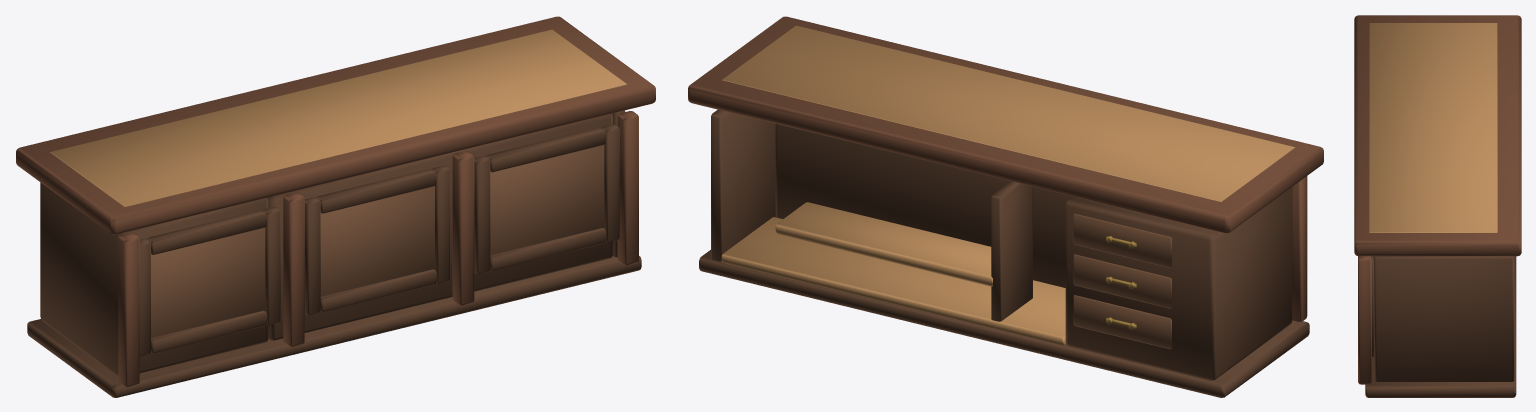
File: asset_061_front_desk_counter_shell.glb
The picture shows the model from 3 angles, left to right: view 1: azimuth 30°, elevation 25°; view 2: azimuth 150°, elevation 25°; view 3: azimuth 270°, elevation 25°; orthographic projection. The views are drawn at different scales.
Visible parts, largest first — view 1: MESH_CustomerRaisedPanelSet, MESH_CounterTopInlay, MESH_CounterTop, MESH_CounterCarcassDrawerBank, MESH_CustomerPilasterSet, MESH_CounterPlinth, MESH_CounterCarcassFrontWall; view 2: MESH_CounterTopInlay, MESH_CounterTop, MESH_CounterCarcassDrawerBank, MESH_CounterCarcassFrontWall, MESH_CounterCarcassBayDeck, MESH_CounterPlinth, MESH_StaffDrawerFrontSet, MESH_StaffLowerShelf, MESH_CounterCarcassEndPanel, MESH_StaffDivider, MESH_CustomerPilasterSet; view 3: MESH_CounterTopInlay, MESH_CounterCarcassEndPanel, MESH_CounterTop, MESH_CounterPlinth, MESH_CustomerPilasterSet, MESH_CustomerRaisedPanelSet.
Part boxes in pixels (x1=…): MESH_CustomerRaisedPanelSet: x1=139, y1=124, x2=619, y2=356; MESH_CounterTopInlay: x1=50, y1=29, x2=626, y2=206; MESH_CounterTop: x1=16, y1=16, x2=655, y2=234; MESH_CounterCarcassDrawerBank: x1=40, y1=182, x2=268, y2=376; MESH_CustomerPilasterSet: x1=118, y1=111, x2=638, y2=387; MESH_CounterPlinth: x1=27, y1=256, x2=641, y2=397; MESH_CounterCarcassFrontWall: x1=267, y1=113, x2=612, y2=340; MESH_CounterTopInlay: x1=722, y1=25, x2=1295, y2=201; MESH_CounterTop: x1=688, y1=16, x2=1323, y2=233; MESH_CounterCarcassDrawerBank: x1=1065, y1=187, x2=1292, y2=380; MESH_CounterCarcassFrontWall: x1=775, y1=124, x2=1072, y2=287; MESH_CounterCarcassBayDeck: x1=721, y1=217, x2=1065, y2=345; MESH_CounterPlinth: x1=699, y1=250, x2=1309, y2=397; MESH_StaffDrawerFrontSet: x1=1073, y1=213, x2=1171, y2=349; MESH_StaffLowerShelf: x1=775, y1=202, x2=992, y2=286; MESH_CounterCarcassEndPanel: x1=711, y1=109, x2=775, y2=261; MESH_StaffDivider: x1=991, y1=181, x2=1032, y2=321; MESH_CustomerPilasterSet: x1=1292, y1=176, x2=1307, y2=321; MESH_CounterTopInlay: x1=1369, y1=23, x2=1497, y2=232; MESH_CounterCarcassEndPanel: x1=1374, y1=256, x2=1514, y2=381; MESH_CounterTop: x1=1354, y1=15, x2=1521, y2=256; MESH_CounterPlinth: x1=1365, y1=256, x2=1516, y2=397; MESH_CustomerPilasterSet: x1=1358, y1=256, x2=1371, y2=384; MESH_CustomerRaisedPanelSet: x1=1372, y1=256, x2=1373, y2=356.
Size of the model in its own units: 2.93 by 0.967 by 0.91.
